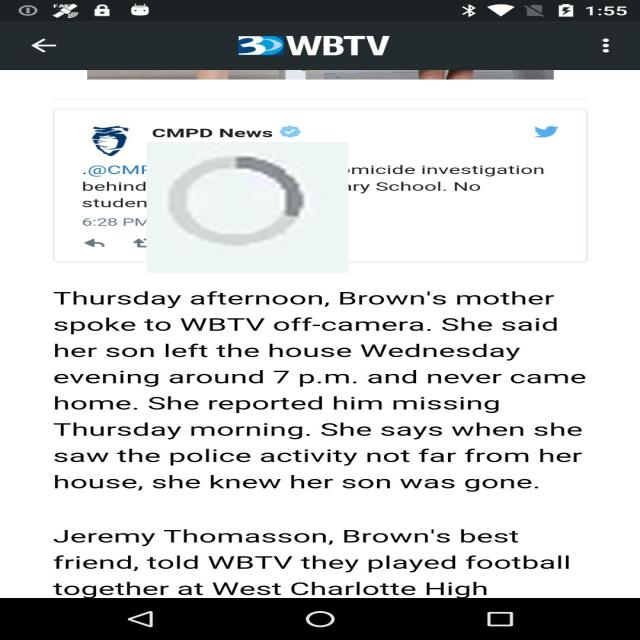misdirection: (146, 142, 348, 273)
